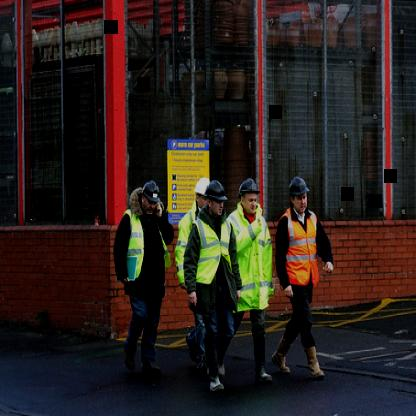helmet: (239, 178, 261, 216), (288, 176, 310, 214), (206, 180, 227, 218), (141, 182, 160, 216), (194, 175, 210, 213)
